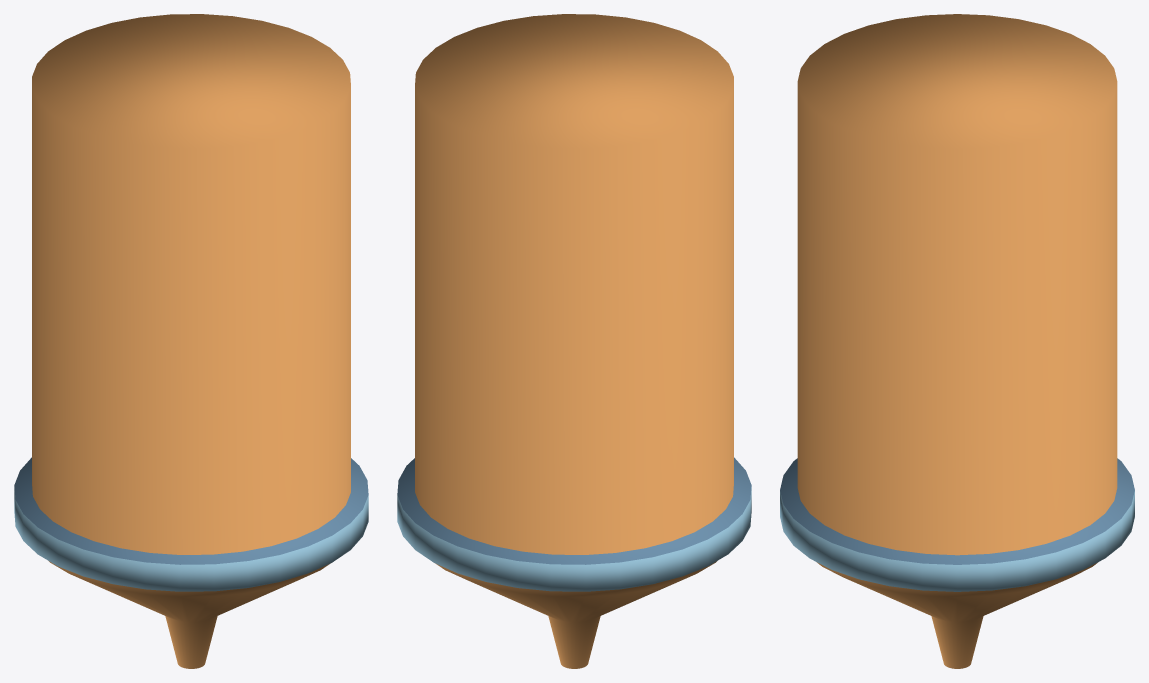
File: xyeta.fbx
The picture shows the model from 3 angles, left to right: view 1: azimuth 30°, elevation 25°; view 2: azimuth 150°, elevation 25°; view 3: azimuth 270°, elevation 25°; orthographic projection.
Visible parts, largest first — view 1: Cylinder; view 2: Cylinder; view 3: Cylinder.
Boxes of the visible parts, left/top/right/bottom form: Cylinder: left=14, top=14, right=368, bottom=668; Cylinder: left=397, top=14, right=751, bottom=668; Cylinder: left=780, top=14, right=1134, bottom=668.
Size of the model in its own units: 2.18 by 3.94 by 2.18.
